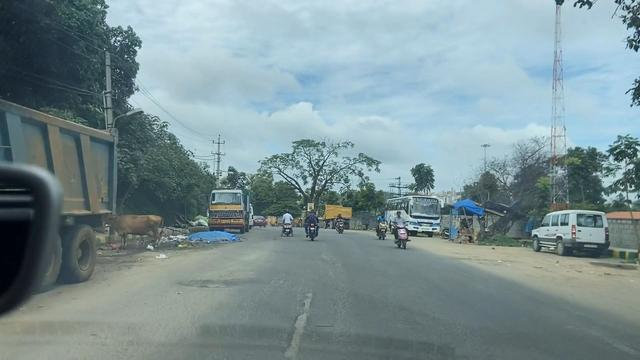HMV: (0, 66, 161, 281), (378, 184, 446, 241), (210, 173, 250, 233), (313, 197, 349, 236)
LMV: (517, 202, 618, 267), (294, 183, 327, 257), (271, 200, 295, 245), (388, 210, 410, 254), (375, 209, 389, 247), (332, 211, 346, 238)
RoadDamages: (173, 268, 257, 311), (289, 263, 320, 349)
